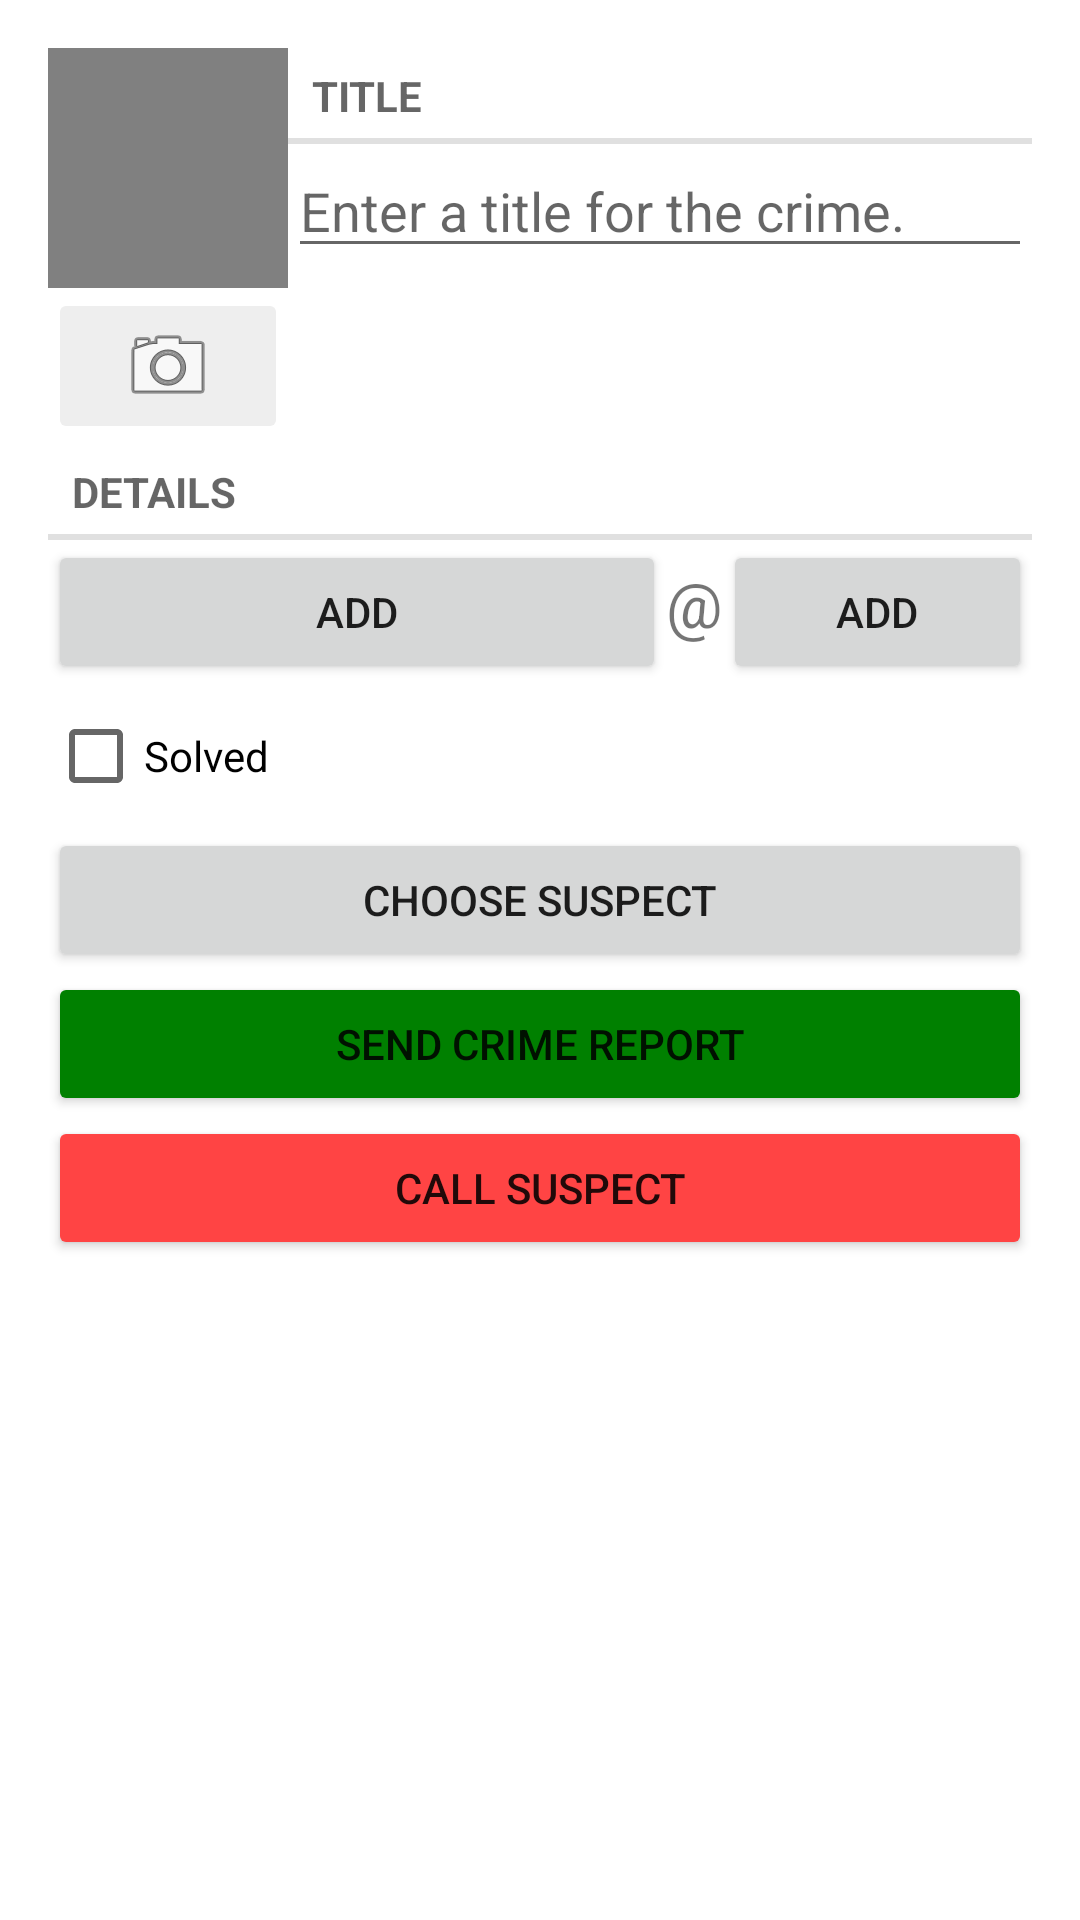

Icon click points for this 1080*1920 phone screenshot, format (x=x, y=y):
Take photo of crime scene: (x=168, y=366)
